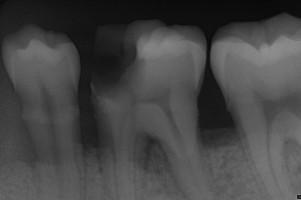Endo-Periodontal Lesion: (143, 137, 171, 174)
